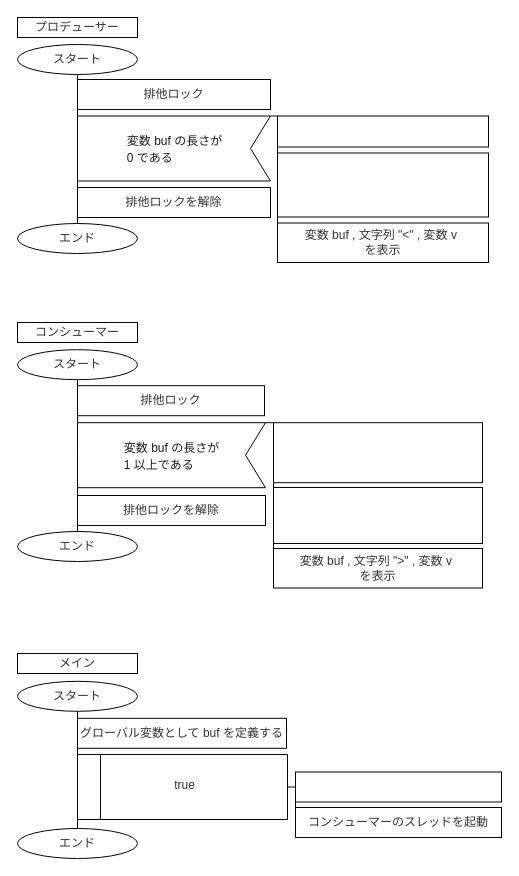
Image size: 519x876. Some labels were removed from this diagram. The centre of each missing label's shape, as x and y in pixels:
プロデューサーのスレッドを起動: (x=398, y=786)
変数 buf の末尾の 要素を削除: (x=377, y=515)
変数 v にAからZのランダムなアルファベット1文字を代入: (x=382, y=131)
変数 v に変数 buf の末尾の 要素を代入: (x=377, y=452)
変数 v を 変数 buf の末尾に追加: (x=382, y=184)
